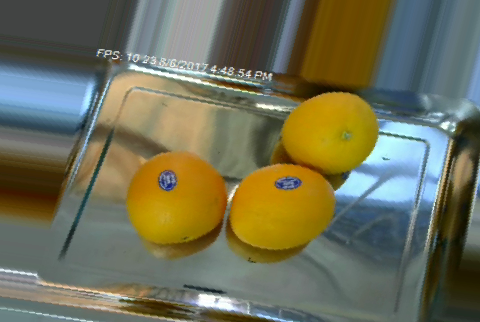Orange: (229, 162, 337, 250), (125, 151, 226, 244), (279, 91, 378, 172)
